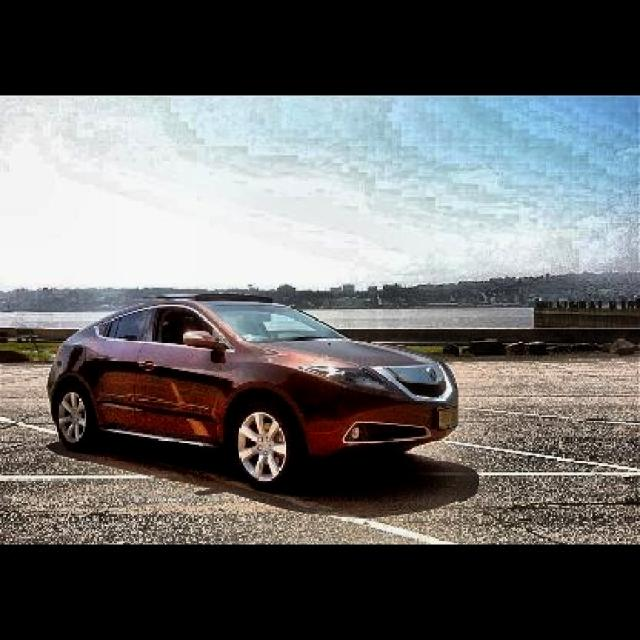maroon: (34, 273, 480, 480)
